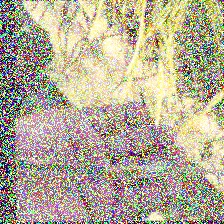Leaf_Blast: (21, 152, 224, 182)
